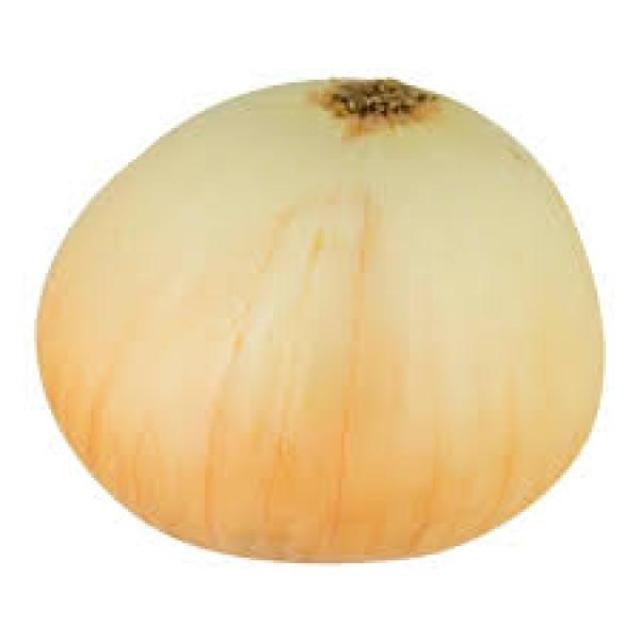Onion: (32, 77, 608, 567)
